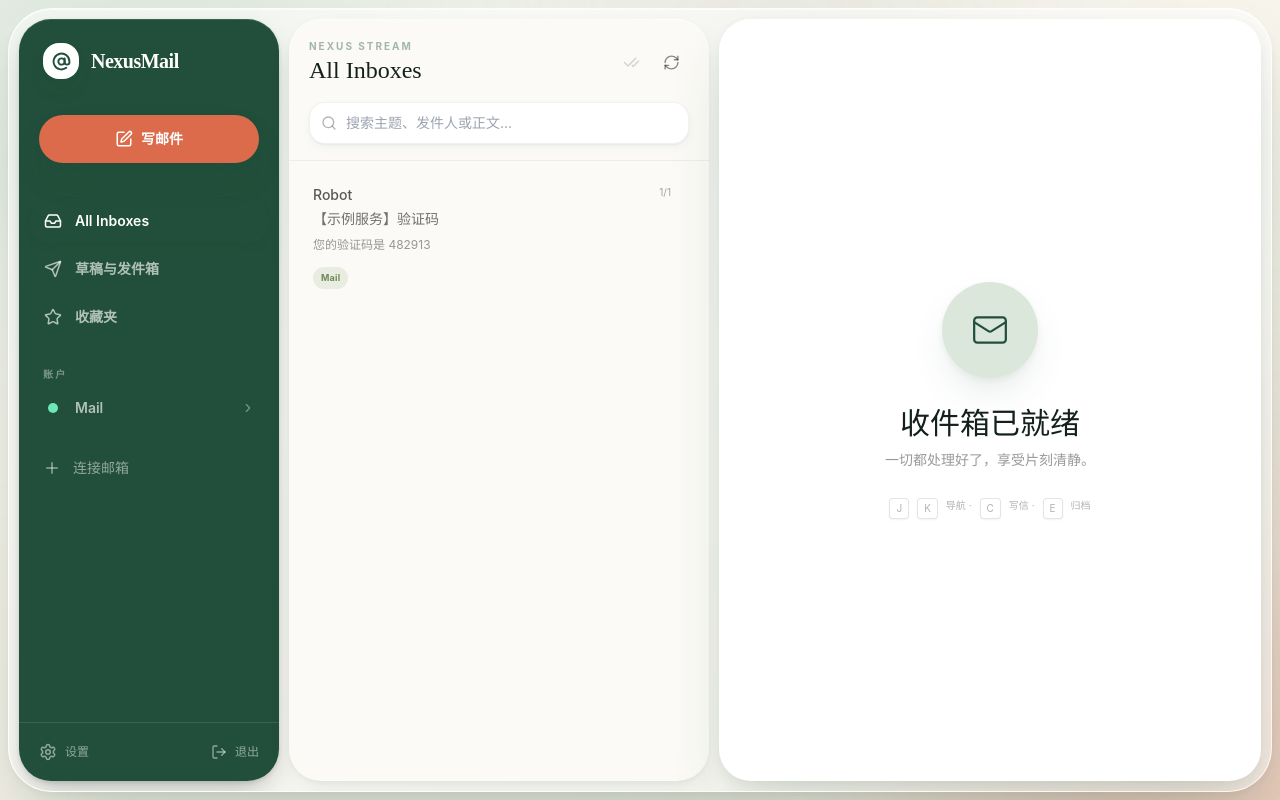
Test case: verification code notifications › offers a copy chip in the detail view as the path back to a dismissed code
Click the button "Robot 1/1 【示例服务】验证码 您的验证码是 482913 Mail" at (333, 194), box [297,169,701,304]
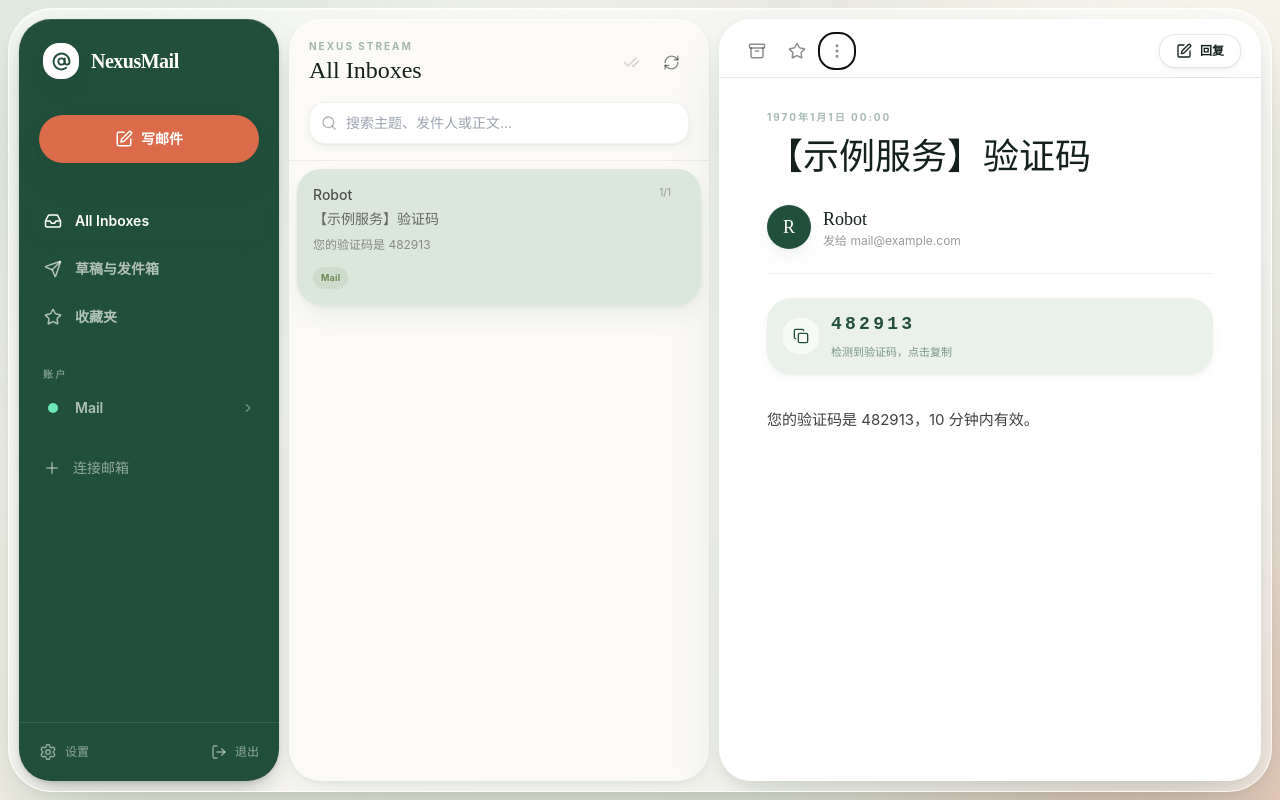
Click the button with aria-label "复制验证码 482913" at (801, 336), box [767,298,1213,374]
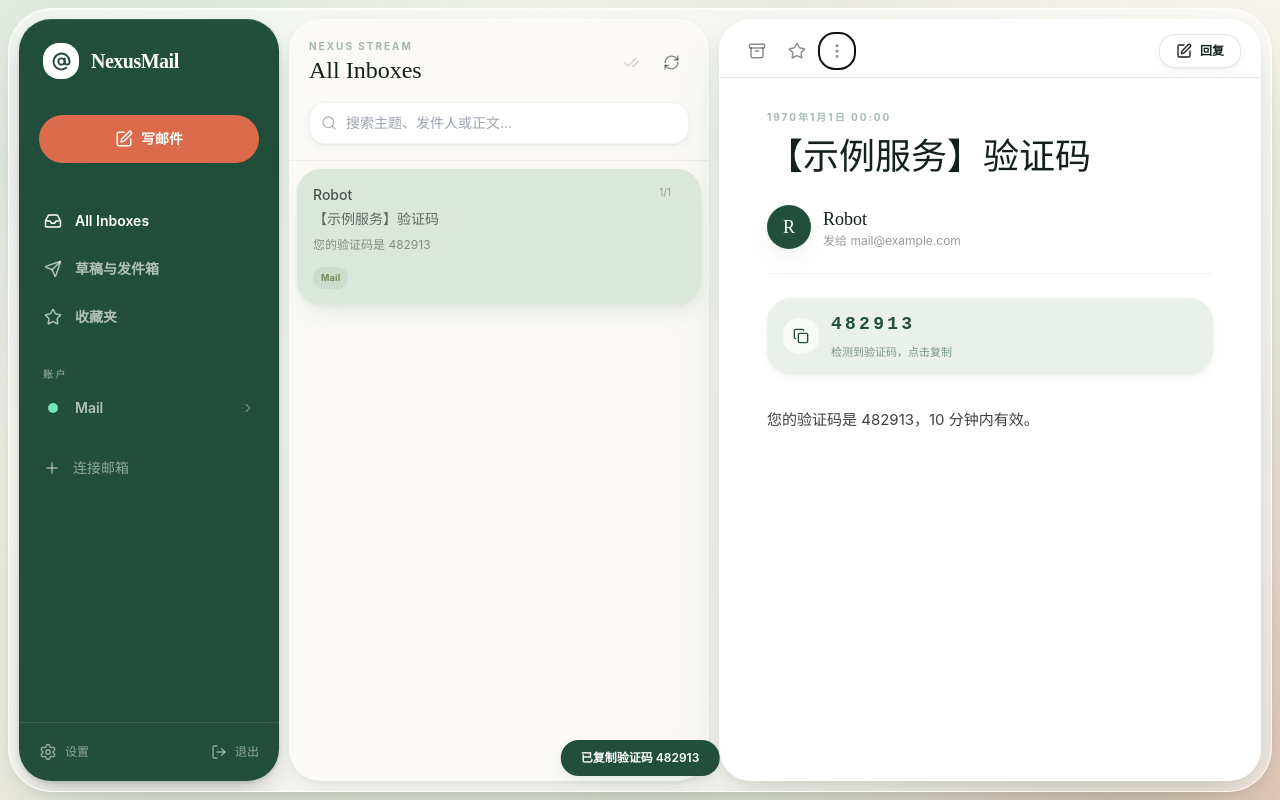
Check: the message reads "已复制验证码 482913", box [581,750,699,765]
